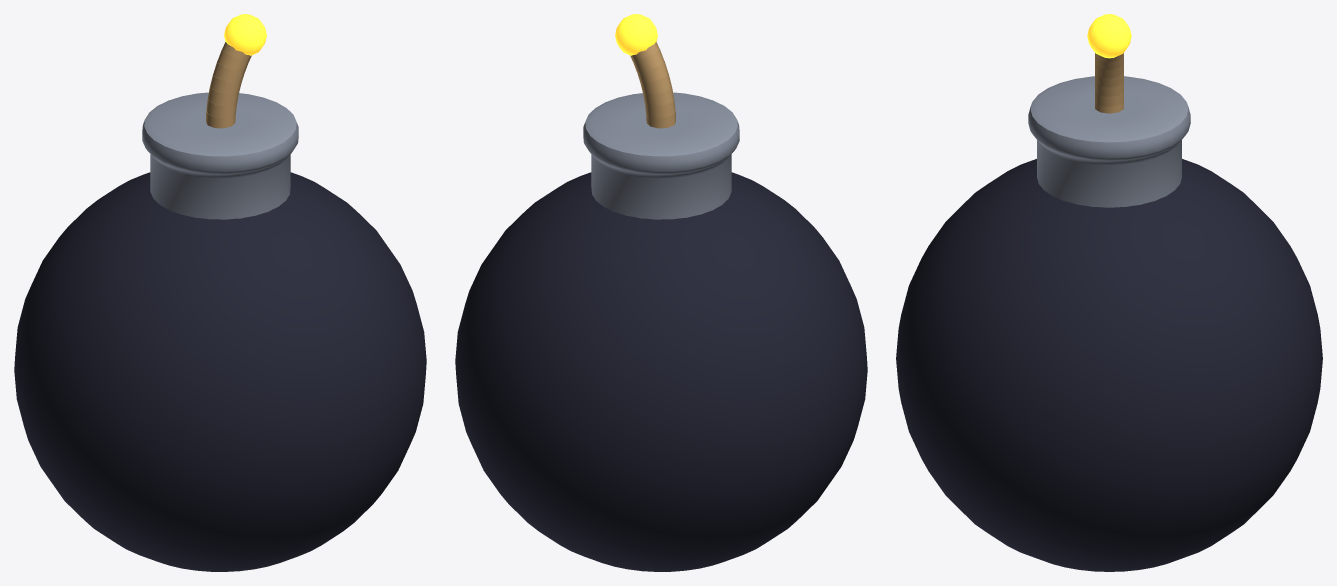
Rendered from bomb.glb.
The picture shows the model from 3 angles, left to right: view 1: azimuth 30°, elevation 25°; view 2: azimuth 150°, elevation 25°; view 3: azimuth 270°, elevation 25°; orthographic projection. The views are drawn at different scales.
Visible parts, largest first — view 1: bomb; view 2: bomb; view 3: bomb.
Boxes of the visible parts, box(x1,y1,x2,y2) form: bomb: box(14, 14, 426, 571); bomb: box(455, 14, 867, 571); bomb: box(896, 14, 1322, 571).
Bounding box in the file's own units: 0.5 × 0.7089 × 0.5.
